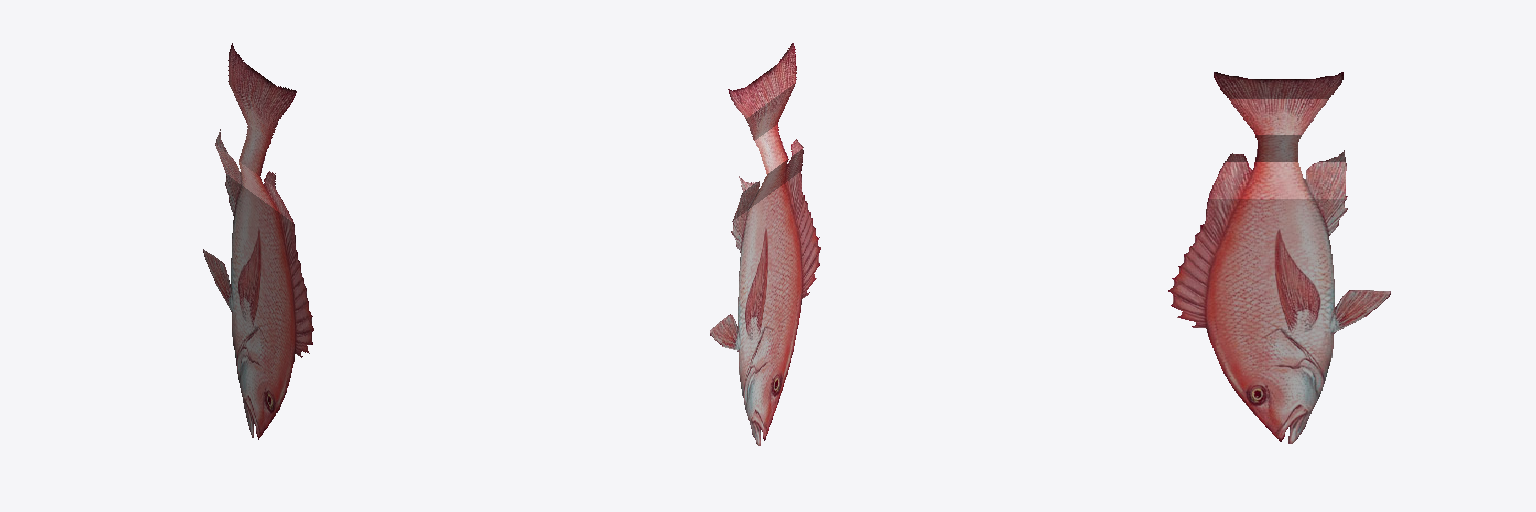
3 views of the same model, side by side, from view 1: azimuth 30°, elevation 25°; view 2: azimuth 150°, elevation 25°; view 3: azimuth 270°, elevation 25° (orthographic).
Size of the model in its own units: 0.0878 by 1.97 by 1.06.
Materials: 1 (1 with a texture image).